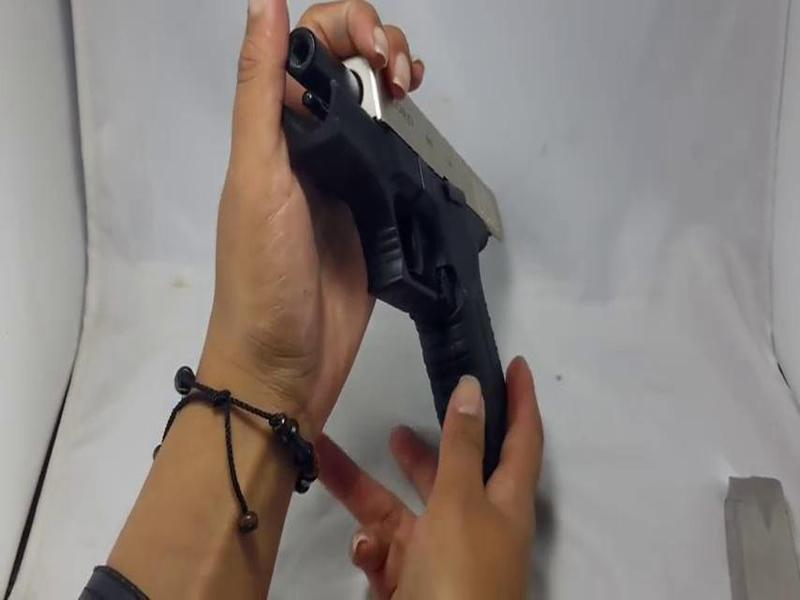Pistola: (228, 23, 546, 463)
